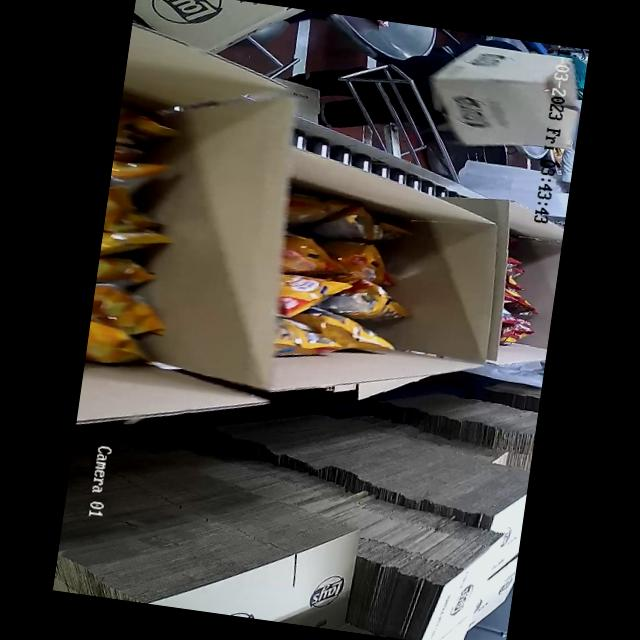cheese: (82, 82, 200, 380), (250, 193, 412, 373)
masala: (496, 220, 544, 361)
